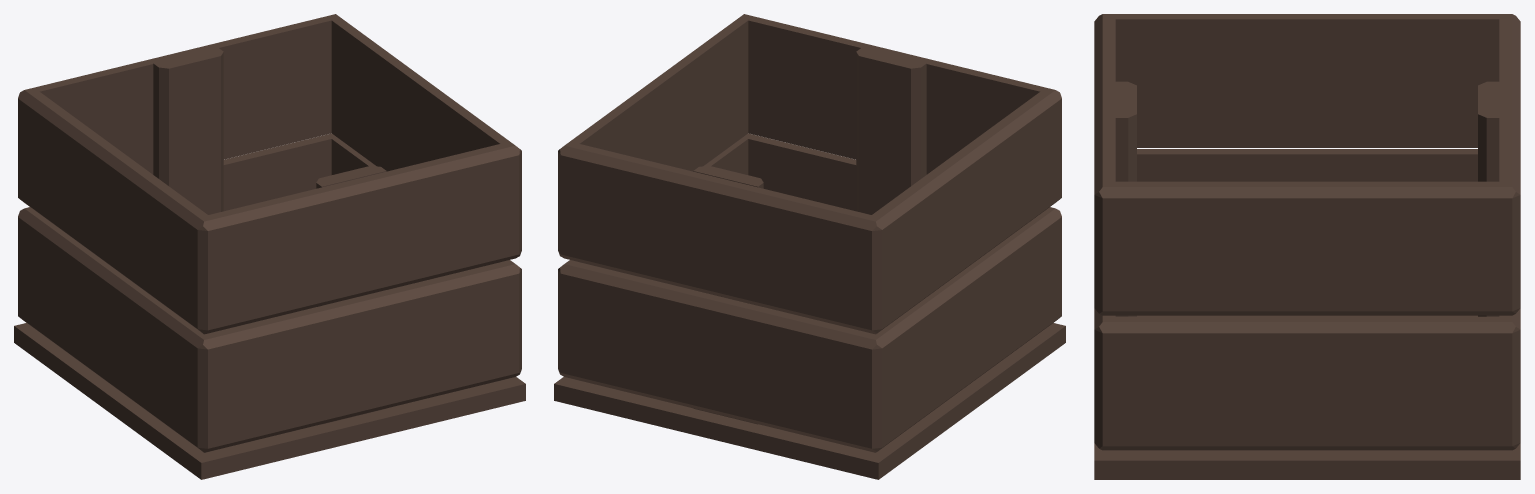
Rendered from fantasy_crate_2.fbx.
The picture shows the model from 3 angles, left to right: view 1: azimuth 30°, elevation 25°; view 2: azimuth 150°, elevation 25°; view 3: azimuth 270°, elevation 25°; orthographic projection. The views are drawn at different scales.
Visible parts, largest first — view 1: Cube.060; view 2: Cube.060; view 3: Cube.060.
Part boxes in pixels (x1,y1,x2,y2): Cube.060: [14, 14, 525, 479]; Cube.060: [554, 14, 1065, 479]; Cube.060: [1094, 14, 1520, 479].
Size of the model in its own units: 100 by 75 by 100.
